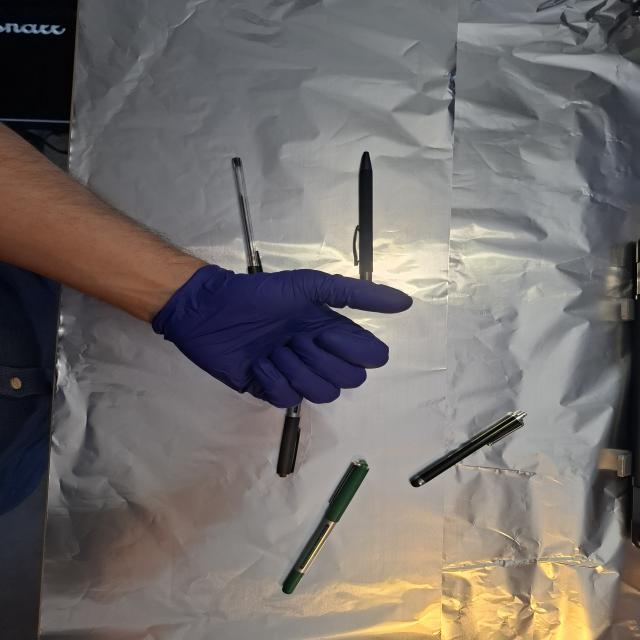glove_on: (145, 264, 417, 411)
